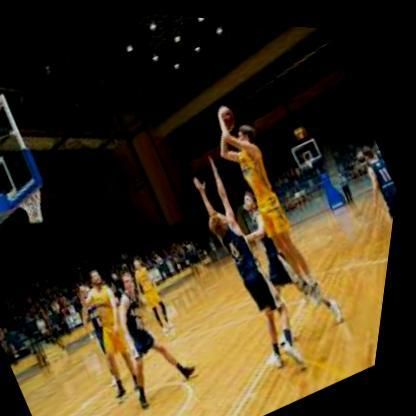basketball: (214, 97, 244, 131)
